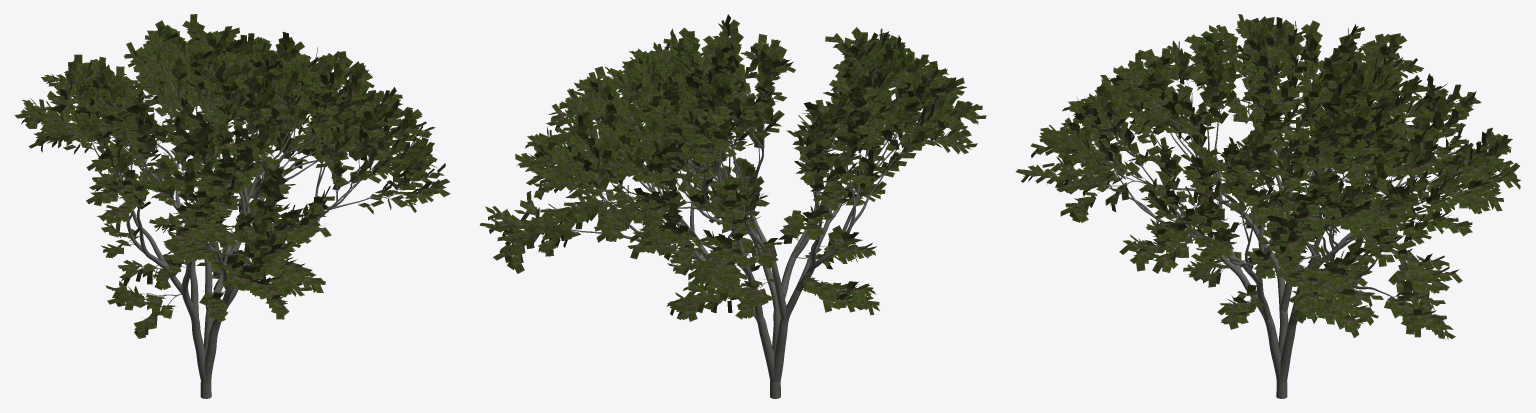
The model's file is tree.glb.
3 views of the same model, side by side, from view 1: azimuth 30°, elevation 25°; view 2: azimuth 150°, elevation 25°; view 3: azimuth 270°, elevation 25° (orthographic). The views are drawn at different scales.
Visible parts, largest first — view 1: leaves.001, Tree_02; view 2: leaves.001, Tree_02; view 3: leaves.001, Tree_02.
Boxes of the visible parts, x1,y1,x2,y2 form: leaves.001: [14, 14, 450, 338]; Tree_02: [34, 41, 433, 398]; leaves.001: [479, 14, 986, 321]; Tree_02: [496, 43, 963, 398]; leaves.001: [1016, 14, 1520, 339]; Tree_02: [1039, 27, 1506, 398].
Size of the model in its own units: 18.53 by 16.11 by 21.23.
Materials: 2 (2 with a texture image).
